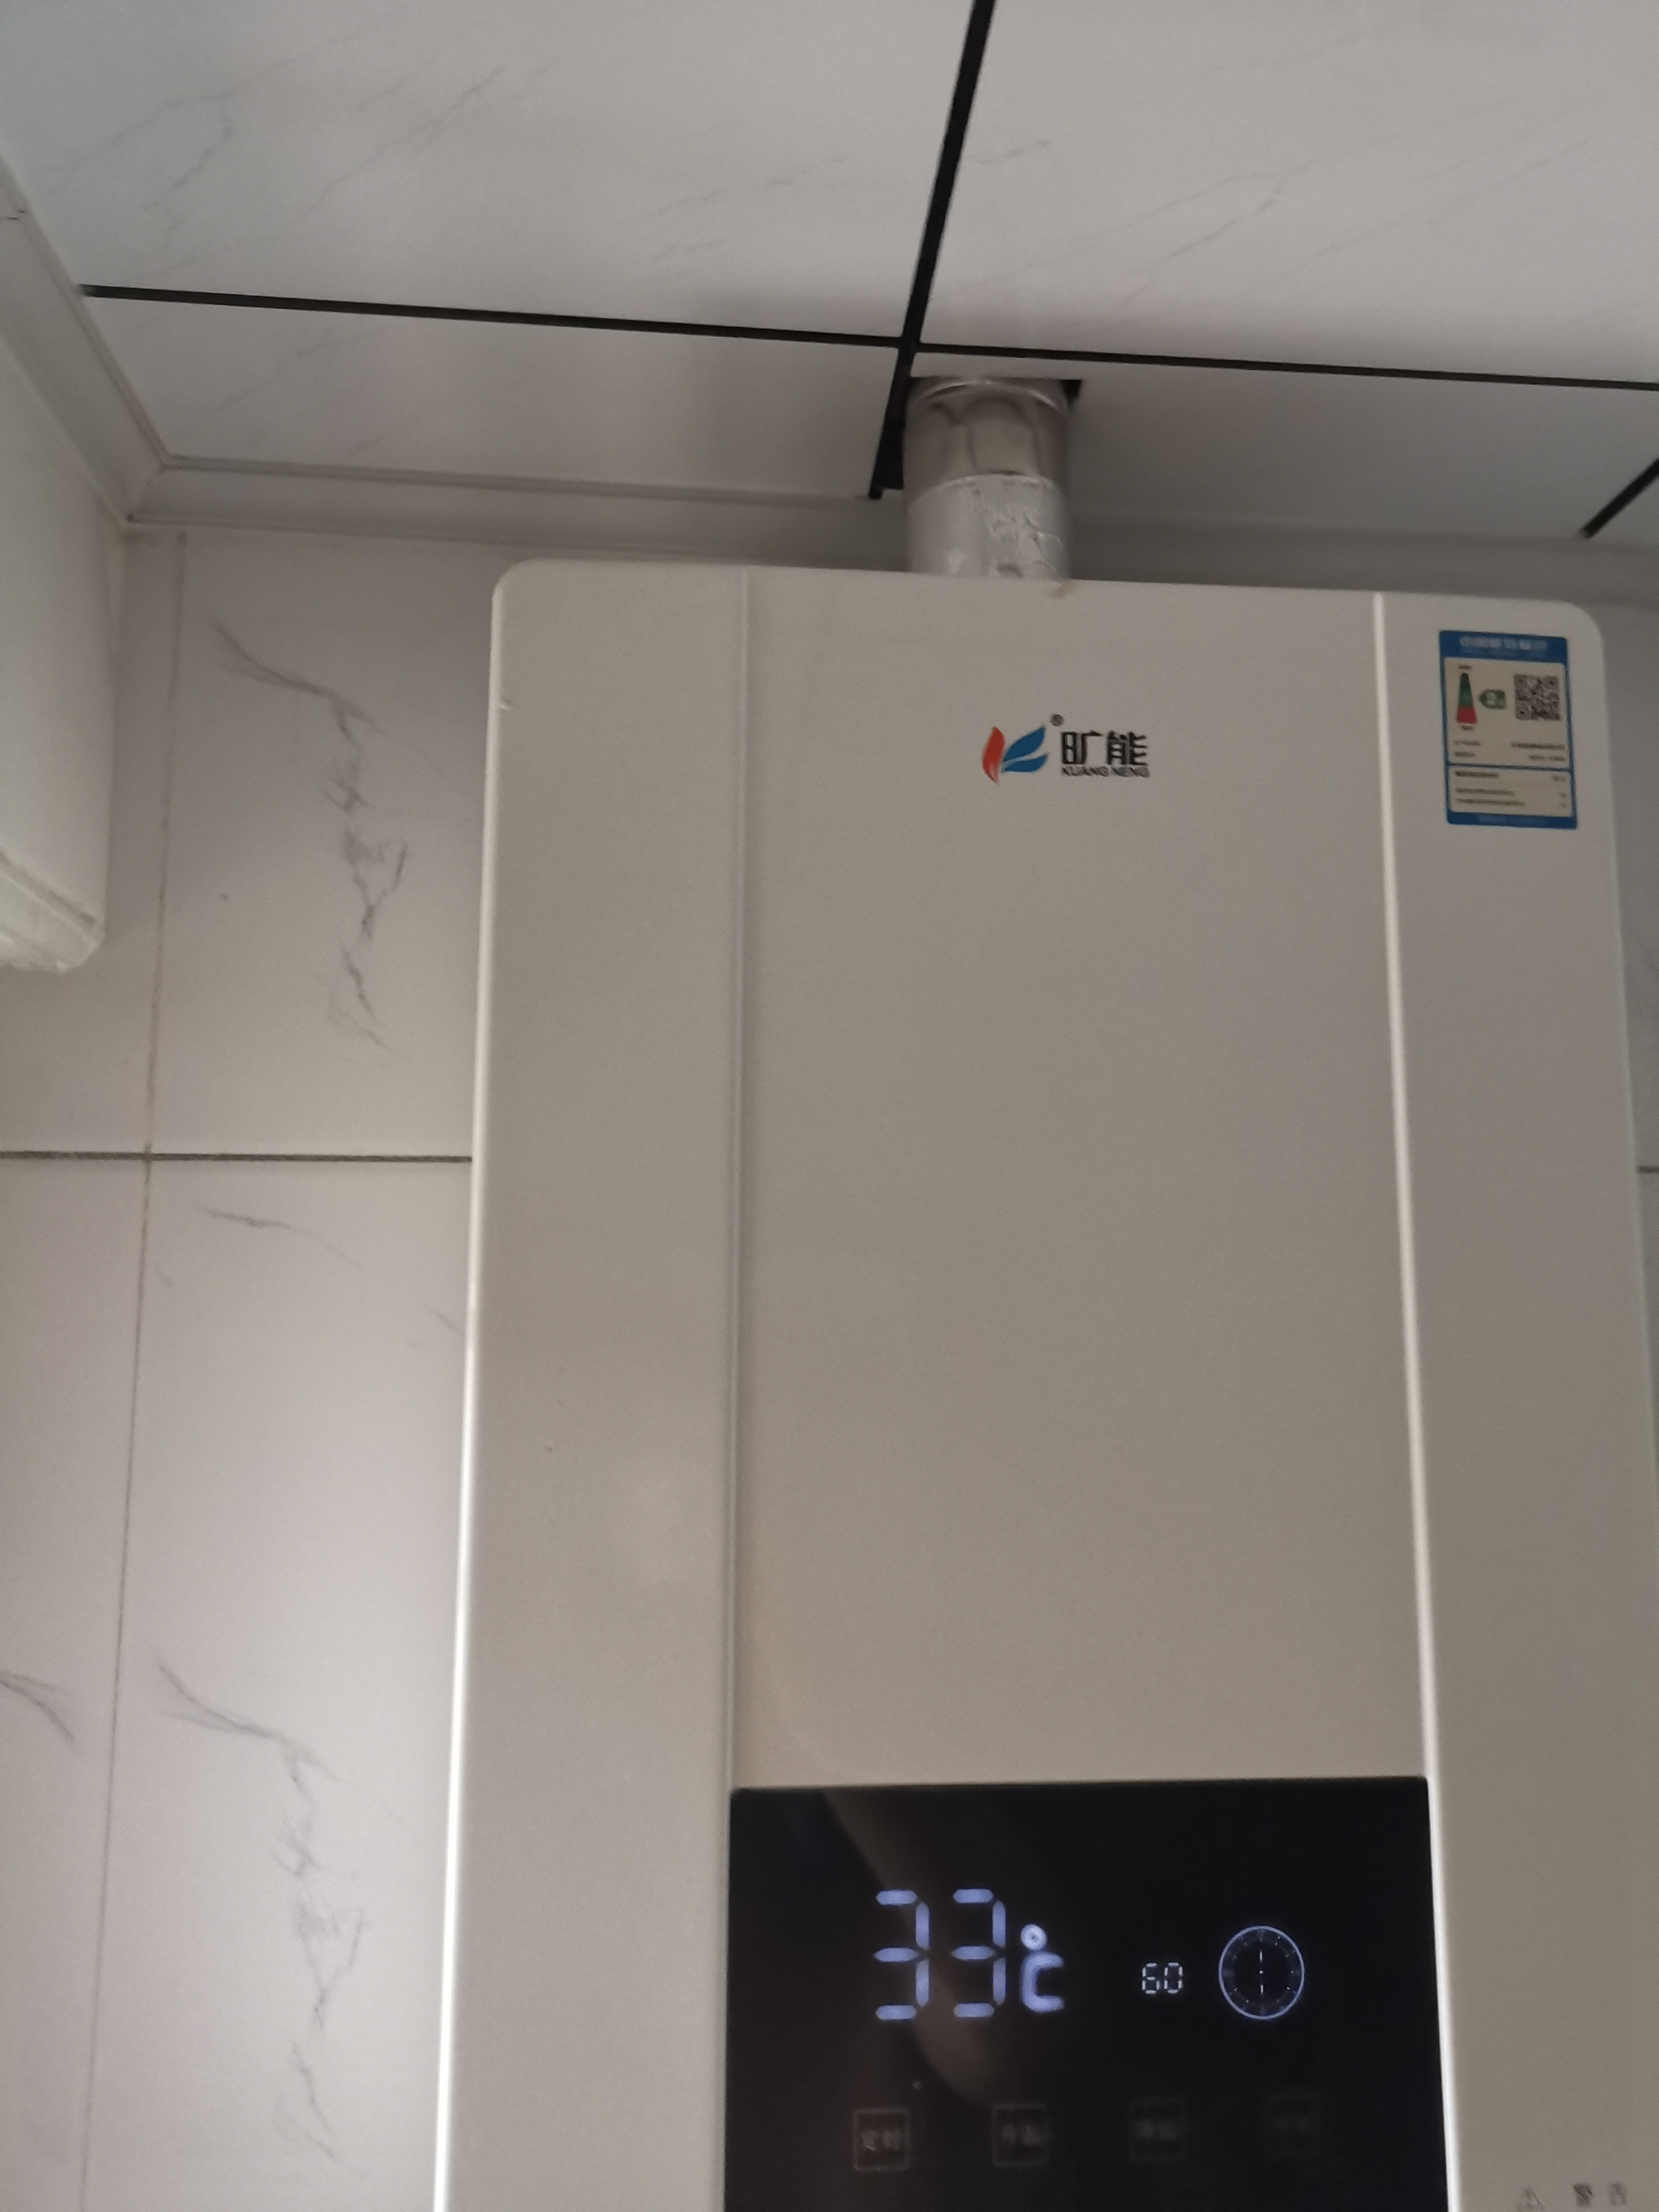loudou: (967, 700, 1182, 806)
